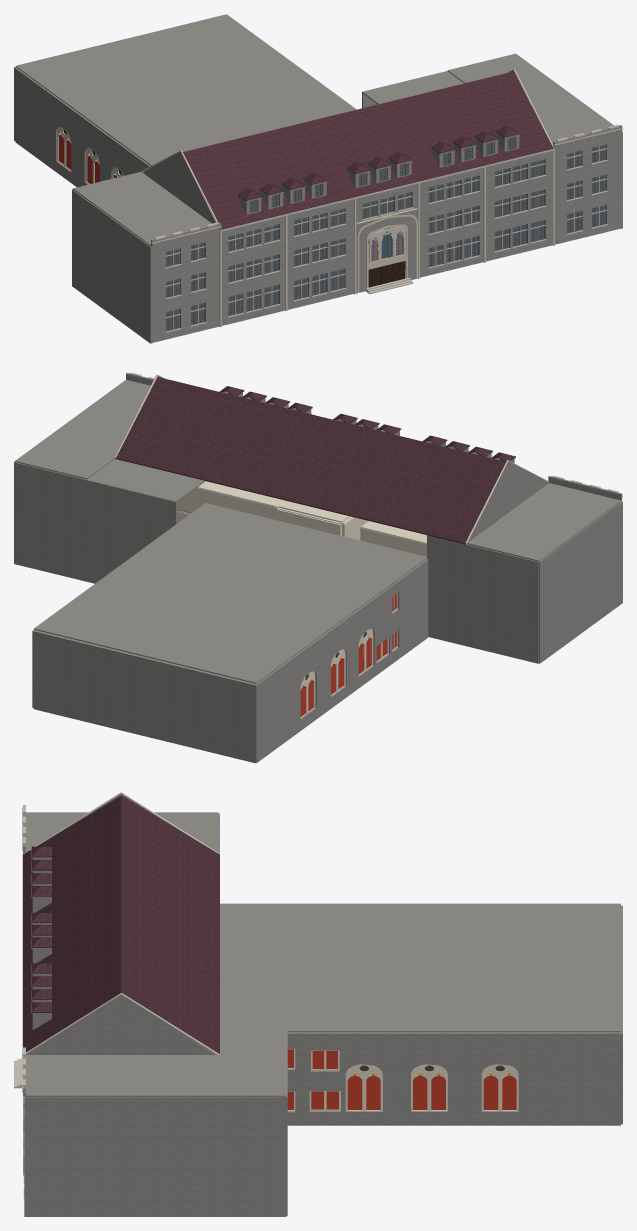
File: changning-mctyeire-richardson-hall-raw.glb
The picture shows the model from 3 angles, top to bottom: view 1: azimuth 30°, elevation 25°; view 2: azimuth 150°, elevation 25°; view 3: azimuth 270°, elevation 25°; orthographic projection. The views are drawn at different scales.
Parts seen in each view (by area): view 1: 中西女中北楼景莲堂草坪立面与门厅; view 2: 中西女中北楼景莲堂草坪立面与门厅; view 3: 中西女中北楼景莲堂草坪立面与门厅.
Boxes of the visible parts, left/top/right/bottom form: 中西女中北楼景莲堂草坪立面与门厅: left=14, top=14, right=622, bottom=343; 中西女中北楼景莲堂草坪立面与门厅: left=14, top=372, right=622, bottom=763; 中西女中北楼景莲堂草坪立面与门厅: left=14, top=792, right=622, bottom=1216.
Size of the model in its own units: 59.03 by 17.81 by 53.38.
21 materials, 3 textured.
